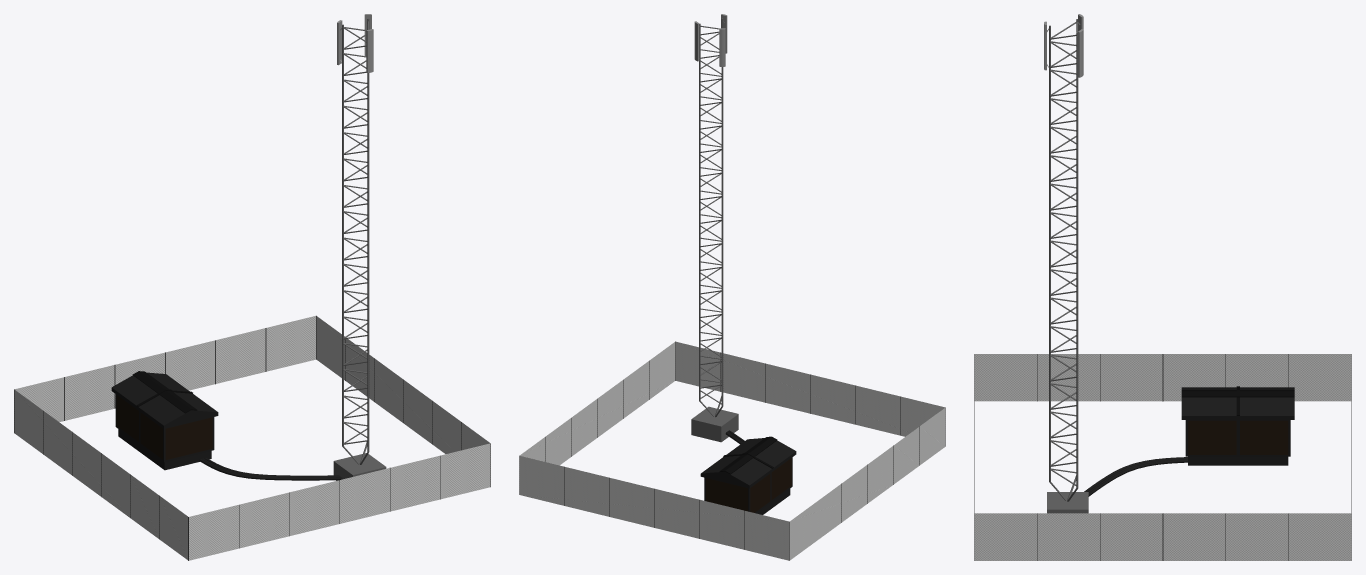
File: tukiasema.FBX
3 renders of one model, left to right at view 1: azimuth 30°, elevation 25°; view 2: azimuth 150°, elevation 25°; view 3: azimuth 270°, elevation 25°, orthographic. The views are drawn at different scales.
Visible parts, largest first — view 1: aita, muuntaja, aita_rikki, perustus, masto4, masto3, masto7, masto6, masto2, masto5, masto1; view 2: aita, muuntaja, perustus, aita_rikki, masto6, masto7, masto1, masto5, masto2, masto4, masto3; view 3: aita, muuntaja, aita_rikki, perustus, masto2, masto8, masto6, masto3, masto1, masto5, masto4, masto7.
Part boxes in pixels (left/top/right/bottom): aita: left=14, top=316, right=490, bottom=560; muuntaja: left=111, top=371, right=218, bottom=470; aita_rikki: left=130, top=475, right=159, bottom=538; perustus: left=333, top=453, right=386, bottom=480; masto4: left=342, top=236, right=369, bottom=294; masto3: left=342, top=288, right=369, bottom=347; masto7: left=342, top=78, right=369, bottom=136; masto6: left=342, top=130, right=369, bottom=189; masto2: left=342, top=341, right=369, bottom=400; masto5: left=342, top=183, right=369, bottom=242; masto1: left=342, top=394, right=369, bottom=452; aita: left=519, top=341, right=945, bottom=560; muuntaja: left=700, top=436, right=796, bottom=514; perustus: left=691, top=406, right=738, bottom=442; aita_rikki: left=893, top=427, right=919, bottom=484; masto6: left=699, top=118, right=723, bottom=171; masto7: left=699, top=71, right=723, bottom=123; masto1: left=699, top=354, right=723, bottom=406; masto5: left=699, top=165, right=723, bottom=218; masto2: left=699, top=307, right=723, bottom=359; masto4: left=699, top=212, right=723, bottom=265; masto3: left=699, top=260, right=723, bottom=312; aita: left=974, top=354, right=1351, bottom=560; muuntaja: left=1181, top=386, right=1294, bottom=465; aita_rikki: left=1037, top=354, right=1099, bottom=401; perustus: left=1047, top=492, right=1088, bottom=513; masto2: left=1049, top=364, right=1078, bottom=431; masto8: left=1049, top=19, right=1078, bottom=89; masto6: left=1049, top=136, right=1078, bottom=203; masto3: left=1049, top=307, right=1078, bottom=374; masto1: left=1049, top=421, right=1078, bottom=488; masto5: left=1049, top=193, right=1078, bottom=260; masto4: left=1049, top=250, right=1078, bottom=317; masto7: left=1049, top=79, right=1078, bottom=146.
Bounding box in the file's own units: 709 × 1030 × 709.
Materials: 10 (1 with a texture image).
